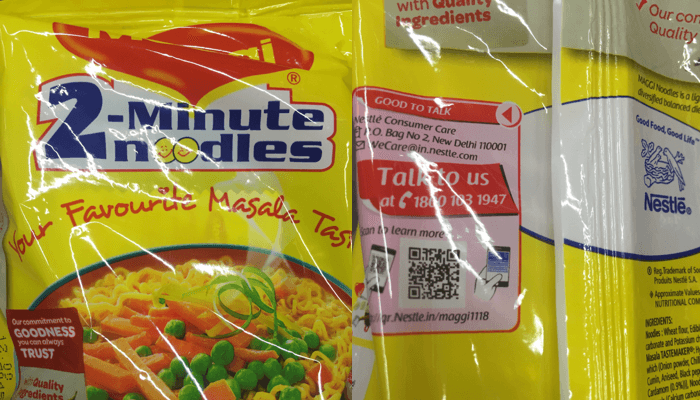qr_code: (404, 241, 464, 306)
